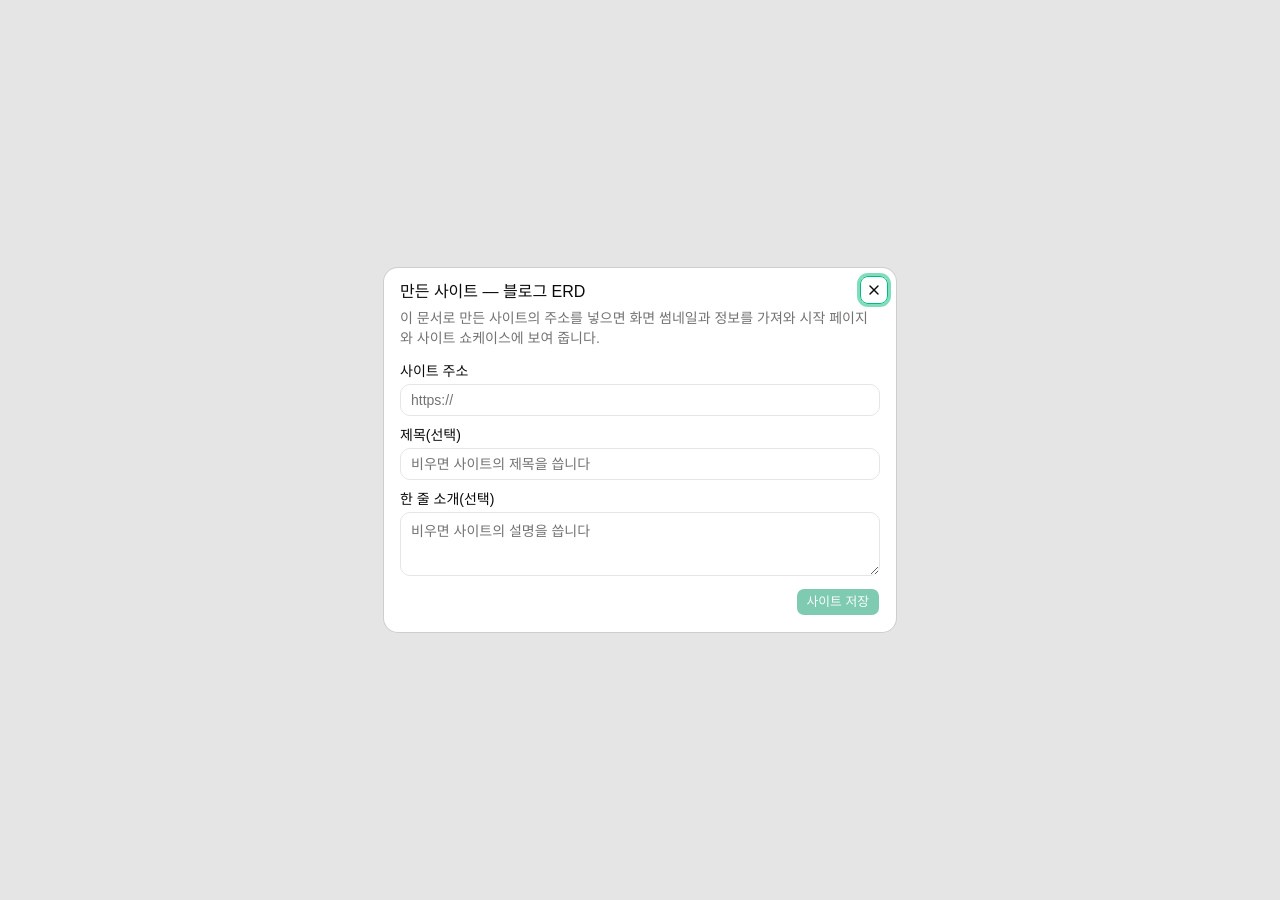
Test: 만든 사이트 칸 › 내부망 주소는 주소 칸 아래에 등록할 수 없다고 알린다
This screenshot has width=1280, height=900.
Type "http://10.0.0.1" into the field labelled "사이트 주소" at (640,400), box [400,384,880,416]
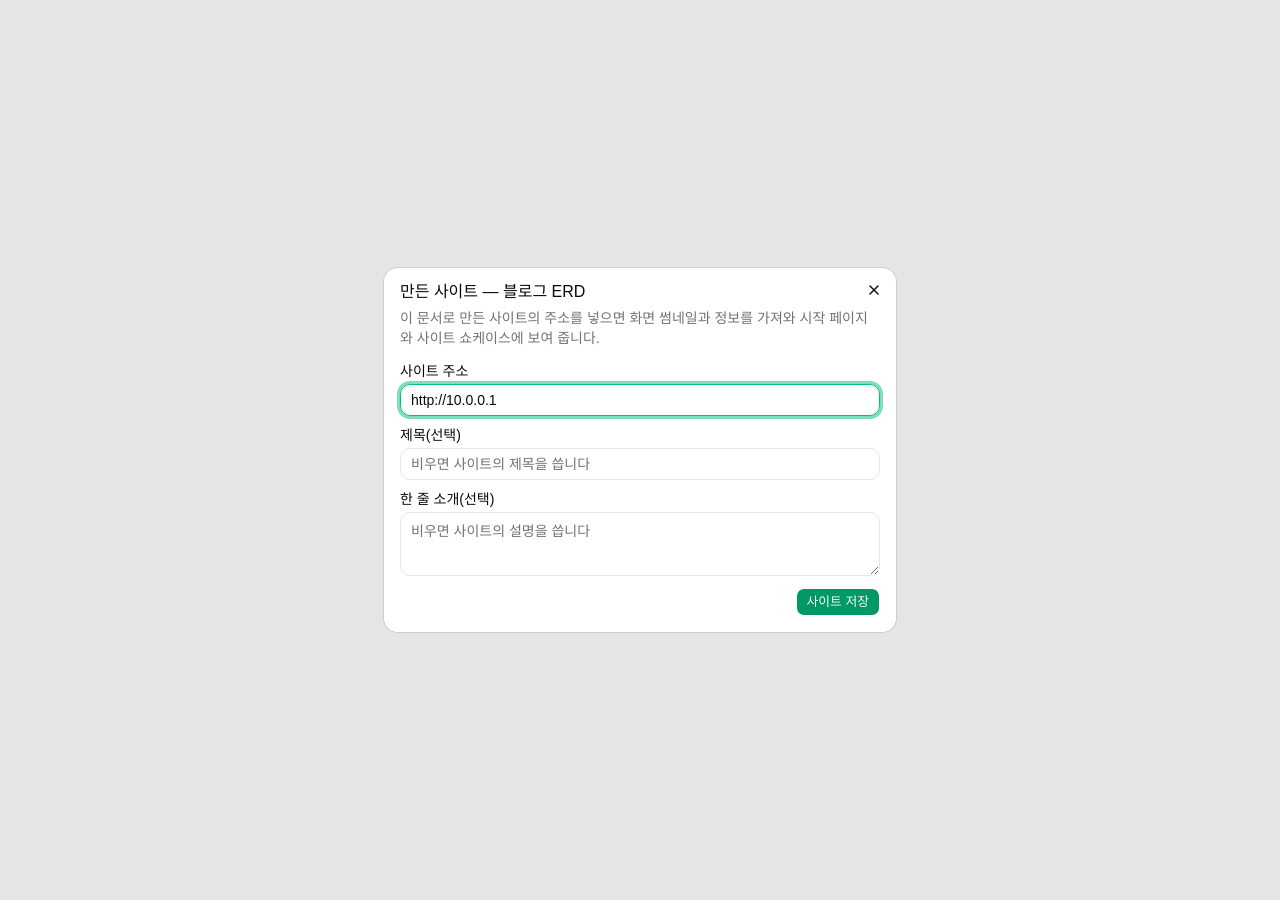
Click the button "사이트 저장" at (838,602), box [796,588,880,616]
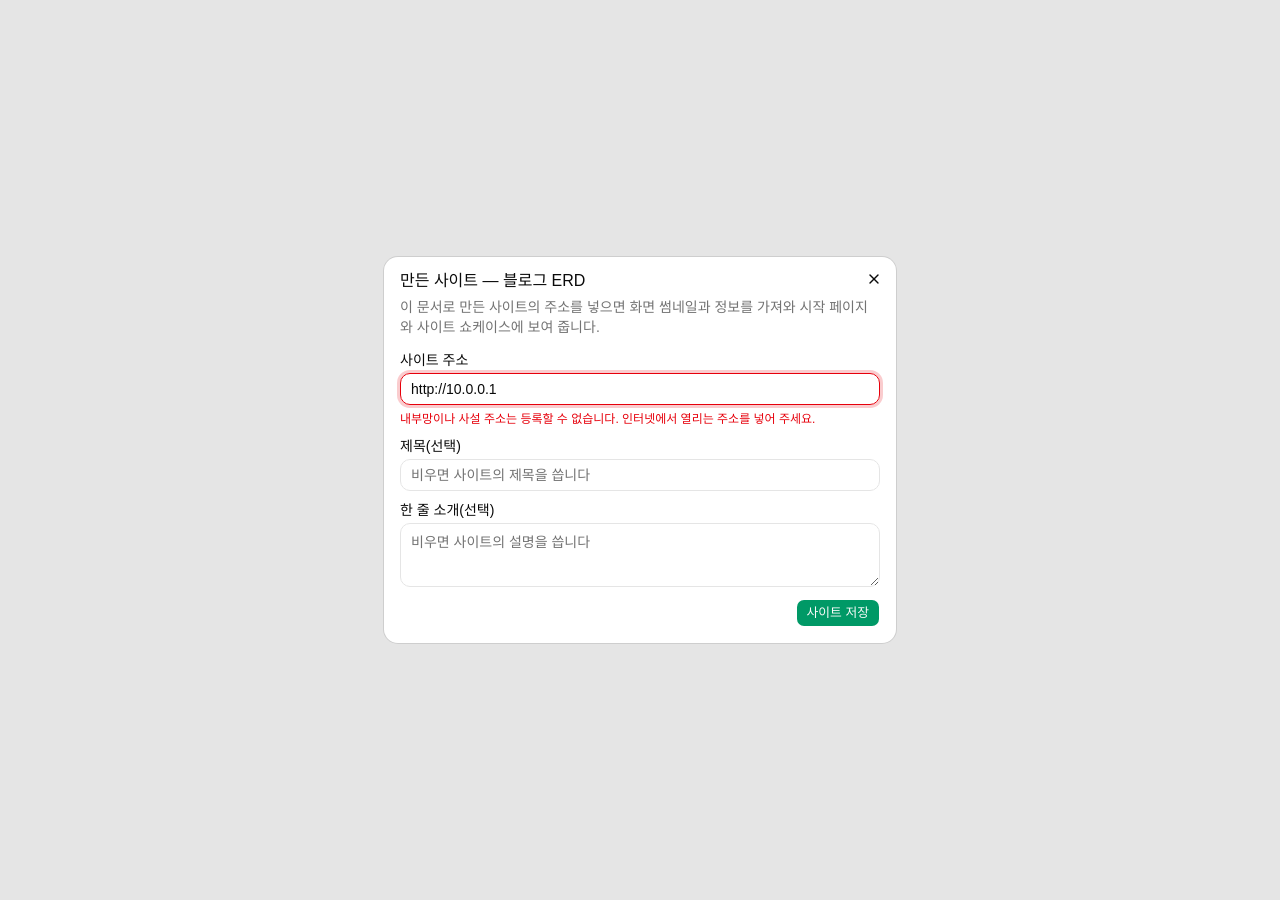
Check: the text "내부망이나 사설 주소는 등록할 수 없습니다. 인터넷에서 열리는 주소를 넣어 주세요." is shown, box [400,411,880,427]
